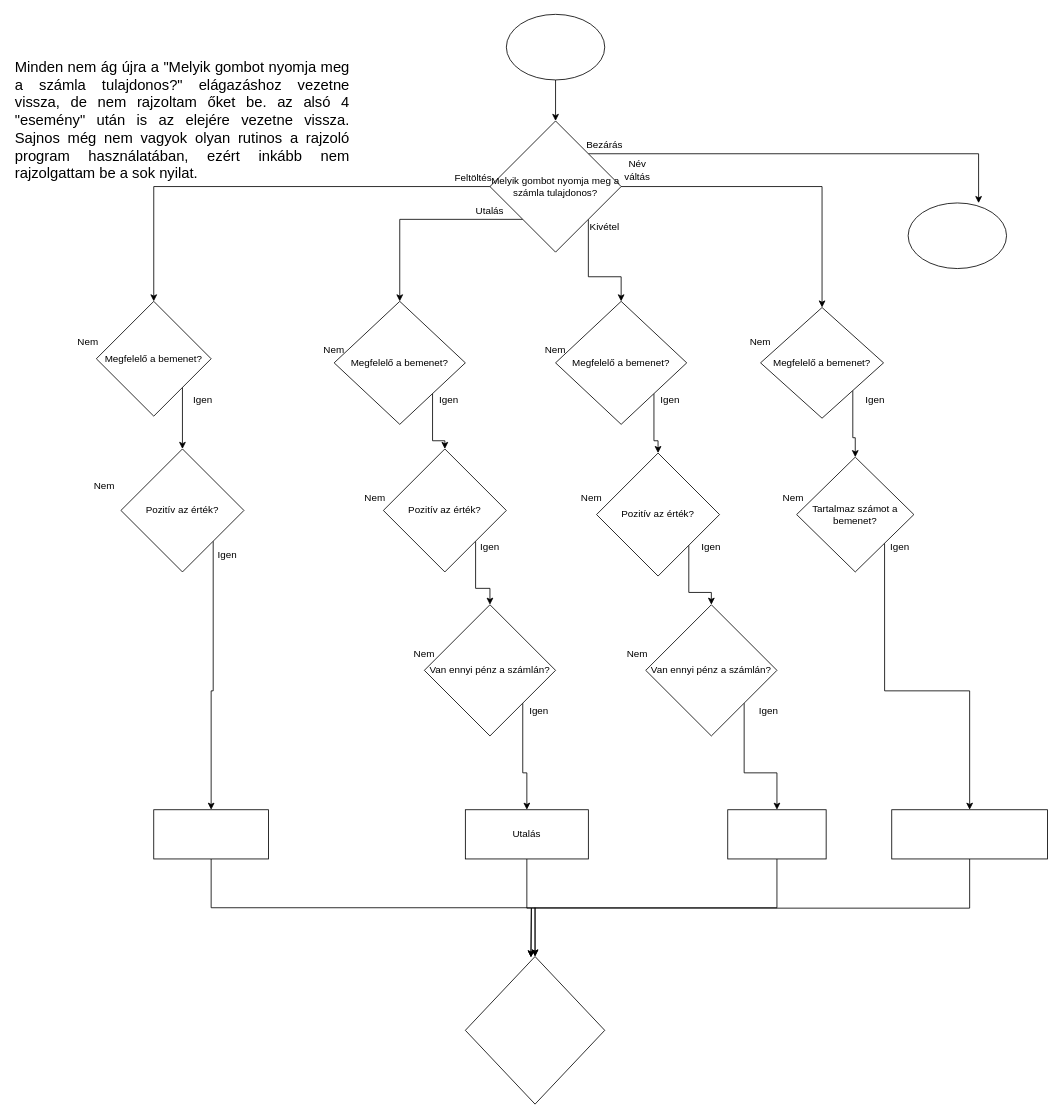
The diagram is 1062 pixels wide and 1118 high, and some of its shapes have lost their labels. Each missing label, with the centre of its shape:
"Milyen gombot nyom meg a számla tulajdonos?" goes at point 535,1030.
"Program indítása" goes at point 555,47.
"Program vége" goes at point 957,235.
"Pénz feltöltés" goes at point 211,834.
"Pénz kivétel" goes at point 776,834.
"Tulajdonos név változtatás" goes at point 969,834.
